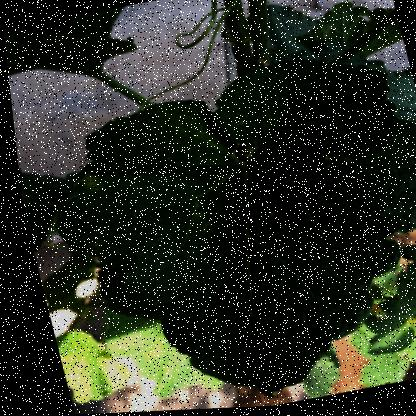Normal: (74, 76, 415, 298), (140, 186, 337, 360)
